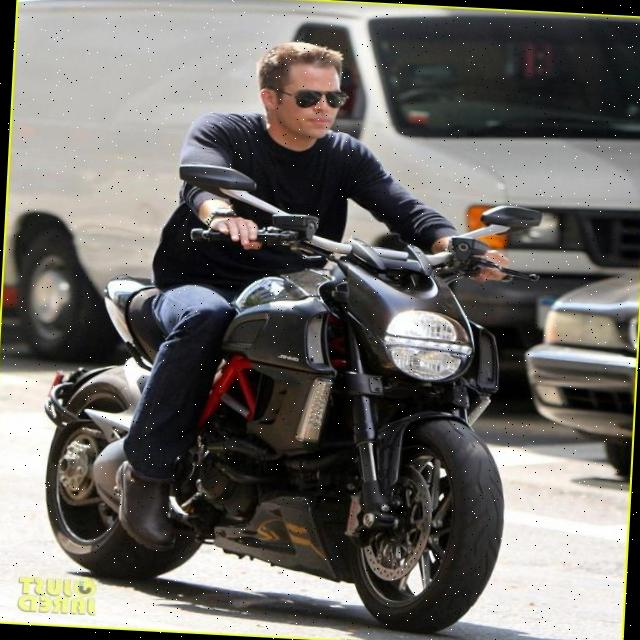No helmet: (258, 38, 354, 146)
